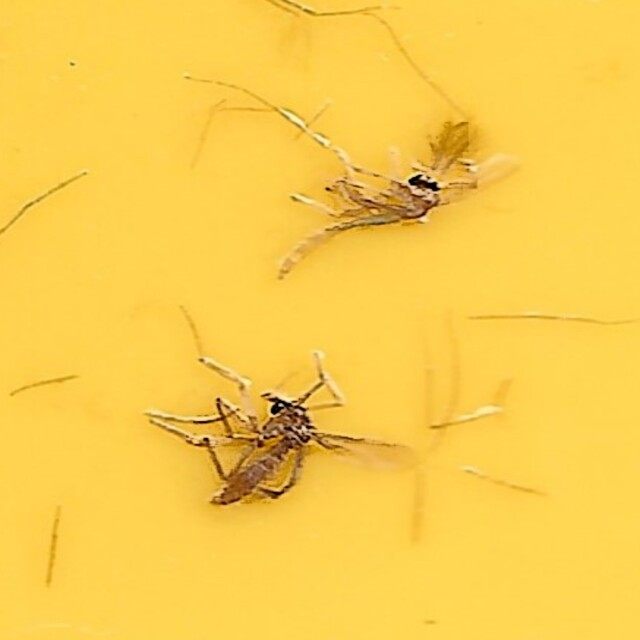Nematocera: (146, 372, 423, 520), (286, 120, 494, 275)
